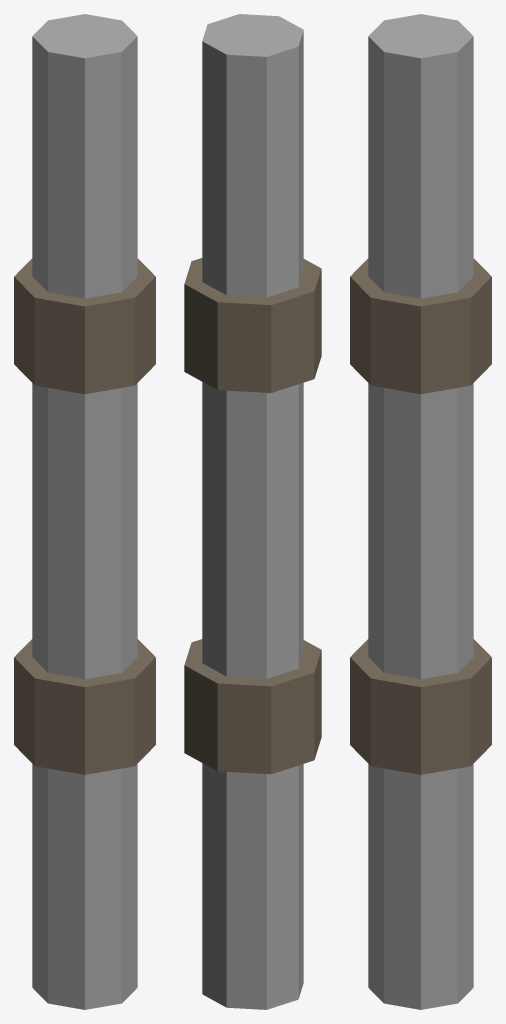
Rendered from steampunk_piping_vertical.fbx.
The picture shows the model from 3 angles, left to right: view 1: azimuth 90°, elevation 25°; view 2: azimuth 150°, elevation 25°; view 3: azimuth 270°, elevation 25°; orthographic projection.
Visible parts, largest first — view 1: Cylinder.008; view 2: Cylinder.008; view 3: Cylinder.008.
Part boxes in pixels (x1=…): Cylinder.008: x1=14, y1=14, x2=155, y2=1009; Cylinder.008: x1=184, y1=14, x2=321, y2=1009; Cylinder.008: x1=350, y1=14, x2=491, y2=1009.
Bounding box in the file's own units: 0.405 × 3 × 0.405.
